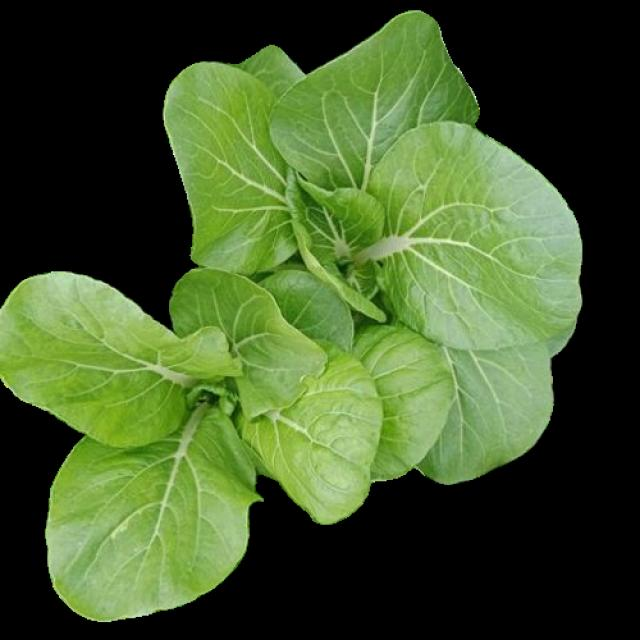healthy: (164, 10, 578, 471)
mature: (167, 12, 581, 474), (1, 264, 387, 620)
not-mature: (1, 261, 387, 617)
